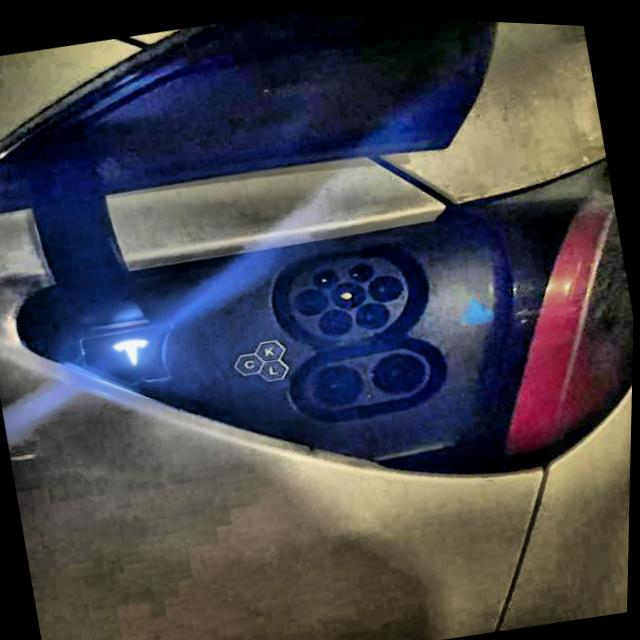inlet: (290, 253, 409, 338)
inlet-above-left: (312, 267, 339, 285)
inlet-above-right: (350, 260, 375, 278)
inlet-below-left: (320, 307, 354, 332)
inlet-below-right: (357, 299, 391, 326)
inlet-center: (334, 278, 367, 305)
inlet-center-left: (295, 285, 330, 313)
inlet-center-right: (369, 272, 404, 299)
